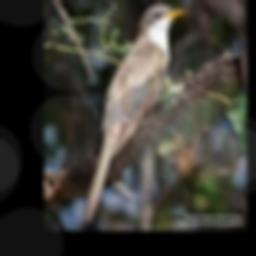Cuckoo: (82, 5, 189, 224)
